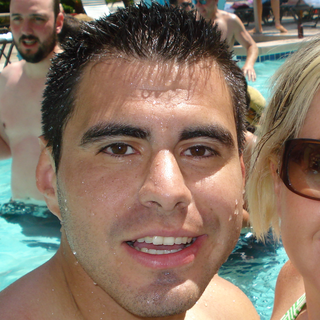eye: (176, 142, 226, 168), (94, 141, 144, 161)
